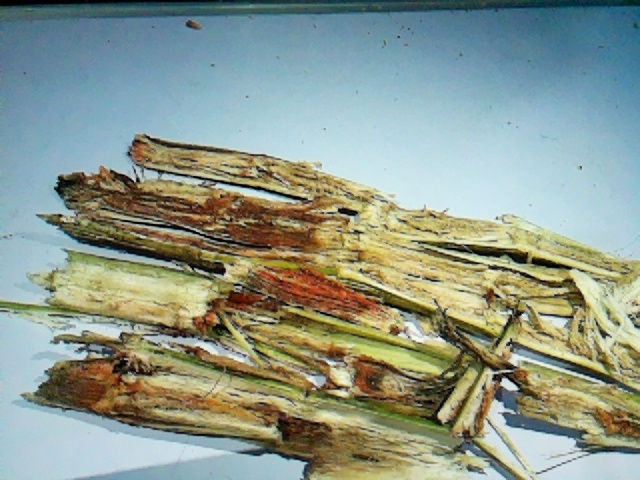Red-Rot: (1, 130, 640, 480)
